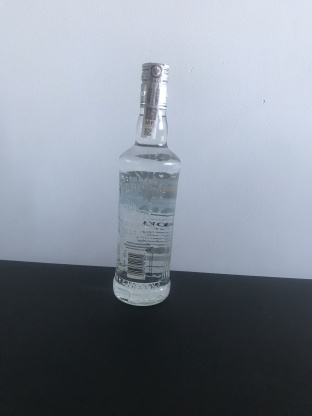nakretka: (137, 58, 171, 112)
